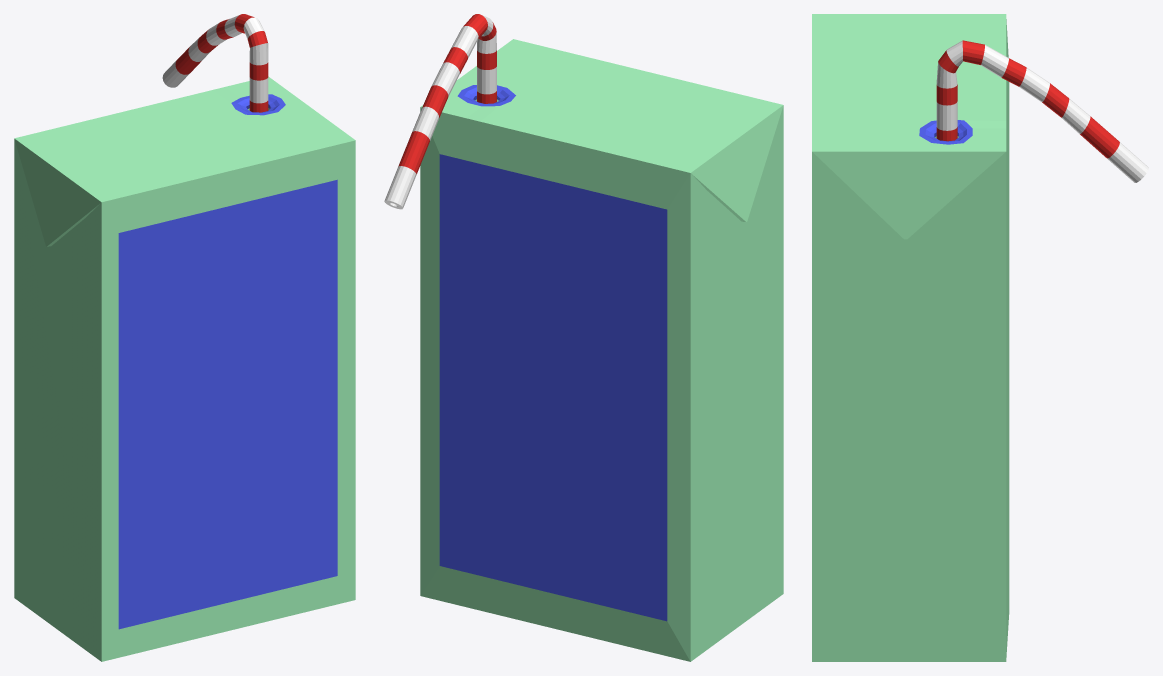
File: cajaJugoNormal.glb
The picture shows the model from 3 angles, left to right: view 1: azimuth 30°, elevation 25°; view 2: azimuth 150°, elevation 25°; view 3: azimuth 270°, elevation 25°; orthographic projection. The views are drawn at different scales.
Visible parts, largest first — view 1: Cube; view 2: Cube; view 3: Cube.
Part boxes in pixels (x1,y1,x2,y2): Cube: (14, 14, 355, 661); Cube: (384, 14, 783, 661); Cube: (812, 14, 1148, 661).
Size of the model in its own units: 1.72 by 3.32 by 1.67.
